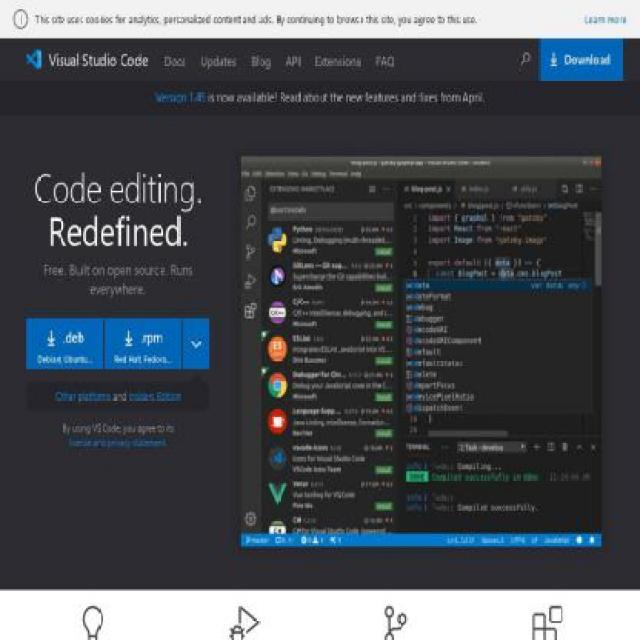button: (26, 588, 160, 640), (178, 588, 312, 640), (329, 588, 463, 640), (480, 588, 614, 640), (25, 38, 158, 80), (25, 318, 104, 370), (104, 318, 182, 370), (539, 38, 624, 80), (308, 38, 369, 80), (192, 38, 245, 80), (157, 38, 194, 80), (244, 38, 279, 80), (368, 38, 403, 80), (278, 38, 308, 80), (584, 7, 627, 30), (513, 38, 536, 80)
